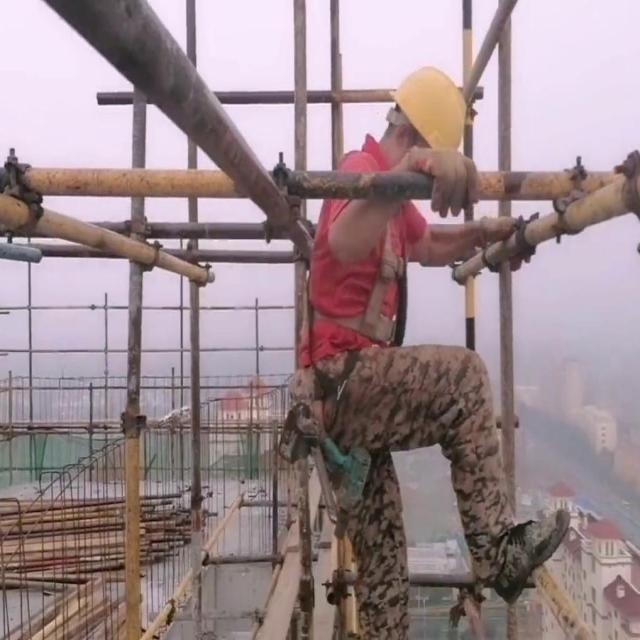Arnes_seguridad: (301, 149, 419, 347)
